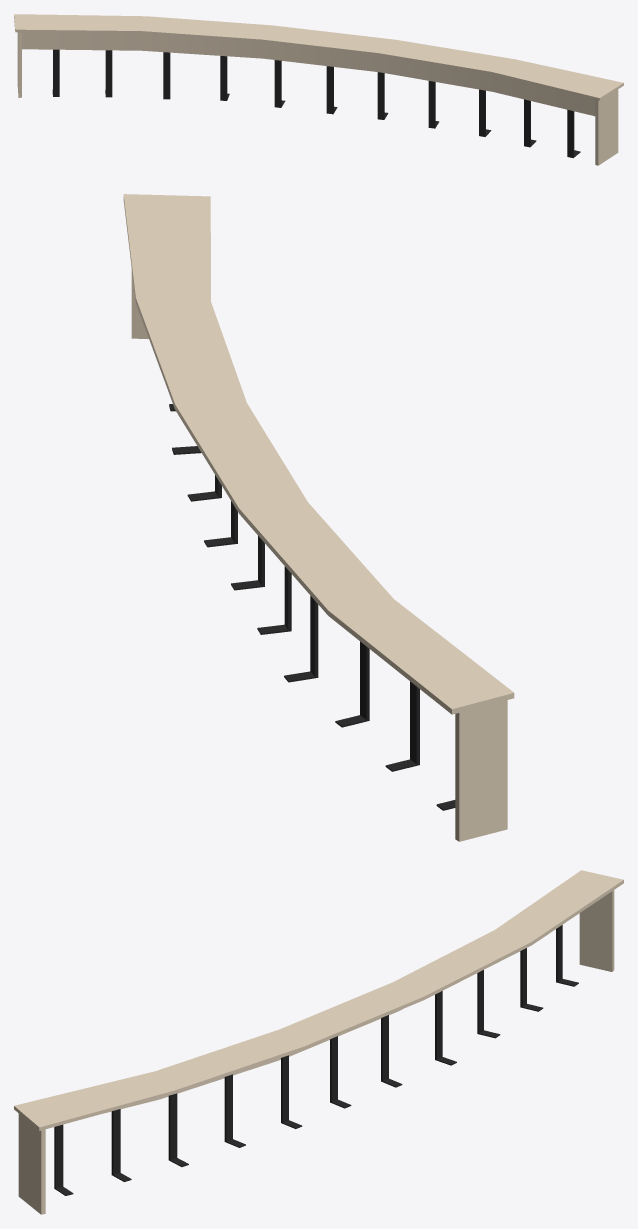
File: AmphiGrandBanc11.fbx
3 renders of one model, top to bottom at view 1: azimuth 30°, elevation 25°; view 2: azimuth 150°, elevation 25°; view 3: azimuth 270°, elevation 25°, orthographic. The views are drawn at different scales.
Parts seen in each view (by area): view 1: polySurface22, polySurface7, polySurface23, polySurface20, polySurface15, polySurface14, polySurface16, polySurface17, polySurface10, polySurface11, polySurface12, polySurface19 (+3 smaller); view 2: polySurface22, polySurface24, polySurface10, polySurface11, polySurface12; view 3: polySurface22, polySurface24, polySurface23, polySurface18, polySurface19, polySurface20, polySurface17, polySurface12, polySurface16, polySurface14, polySurface15, polySurface11 (+2 smaller).
Boxes of the visible parts, x1,y1,x2,y2 form: polySurface22: (14,14,623,100); polySurface7: (22,32,595,116); polySurface23: (595,89,618,165); polySurface20: (567,109,580,158); polySurface15: (326,66,337,114); polySurface14: (274,60,285,107); polySurface16: (377,72,388,119); polySurface17: (428,81,439,128); polySurface10: (105,50,112,97); polySurface11: (163,52,170,99); polySurface12: (220,56,229,100); polySurface19: (524,99,536,147); polySurface22: (123,194,514,714); polySurface24: (455,700,507,841); polySurface10: (385,681,419,771); polySurface11: (335,641,369,727); polySurface12: (284,596,318,682); polySurface22: (14,870,623,1130); polySurface24: (579,890,614,971); polySurface23: (18,1113,45,1214); polySurface18: (168,1093,188,1166); polySurface19: (111,1109,131,1181); polySurface20: (54,1124,73,1195); polySurface17: (224,1074,245,1147); polySurface12: (435,991,456,1065); polySurface16: (281,1055,302,1128); polySurface14: (381,1015,402,1087); polySurface15: (330,1036,351,1108); polySurface11: (477,970,500,1038).
Size of the model in its own units: 145 by 23.72 by 145.
